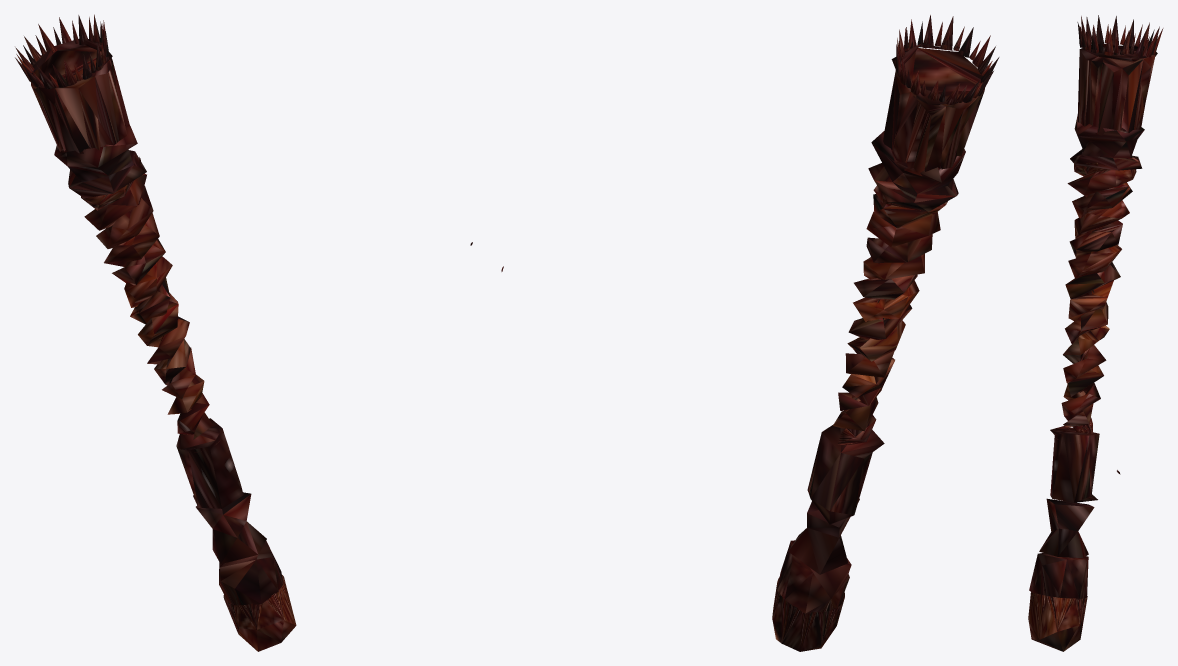
The model's file is antorcha.obj.
3 renders of one model, left to right at view 1: azimuth 30°, elevation 25°; view 2: azimuth 150°, elevation 25°; view 3: azimuth 270°, elevation 25°, orthographic. The views are drawn at different scales.
Visible parts, largest first — view 1: antorchaInclinadaO.002; view 2: antorchaInclinadaO.002; view 3: antorchaInclinadaO.002.
Part boxes in pixels (left/top/right/bottom): antorchaInclinadaO.002: left=15, top=14, right=472, bottom=651; antorchaInclinadaO.002: left=501, top=15, right=999, bottom=651; antorchaInclinadaO.002: left=1028, top=15, right=1163, bottom=651.
Size of the model in its own units: 1.82 by 2.44 by 0.5309.
1 material, 1 textured.
